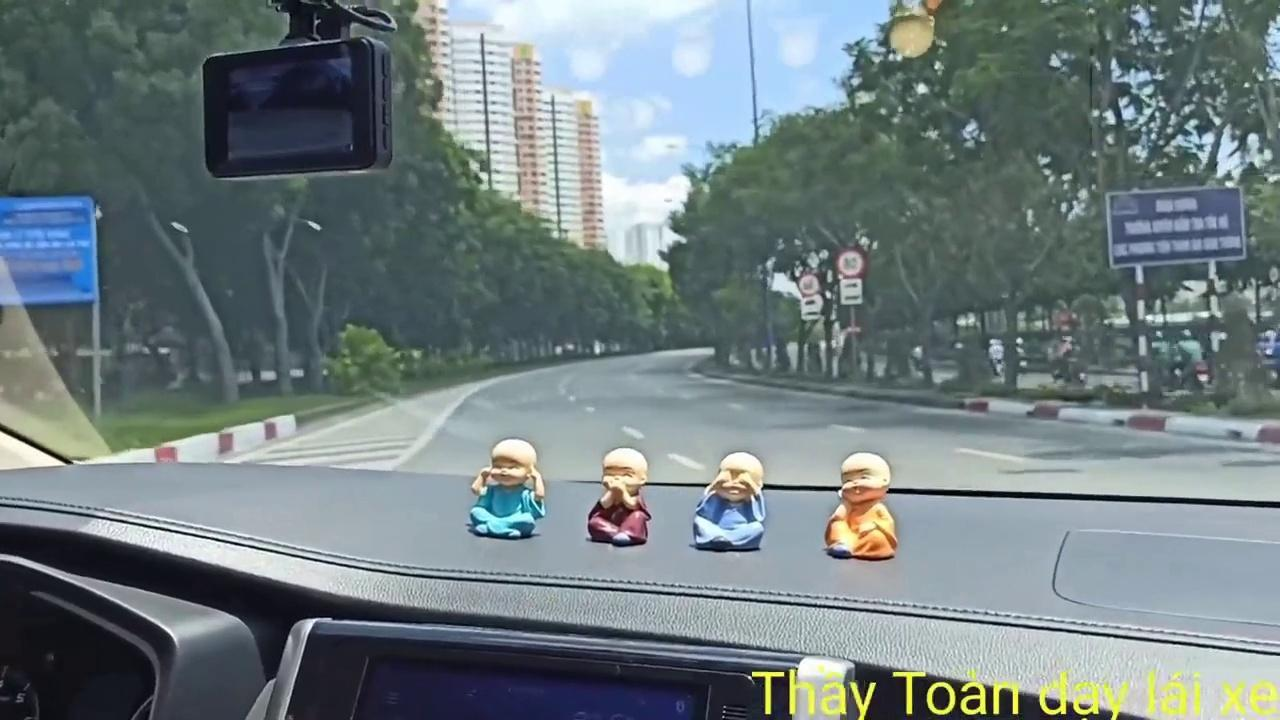Biển phụ: (839, 279, 863, 305), (802, 296, 821, 323)
GIơi hạn tốc độ 60Km/h: (796, 271, 824, 297)
Giới hạn tốc độ 80Km/h: (835, 245, 868, 280)
